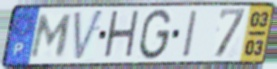7: (213, 7, 249, 60)
G: (136, 7, 174, 61)
H: (101, 8, 142, 62)
I: (181, 8, 200, 60)
M: (28, 13, 75, 61)
V: (72, 7, 106, 64)
